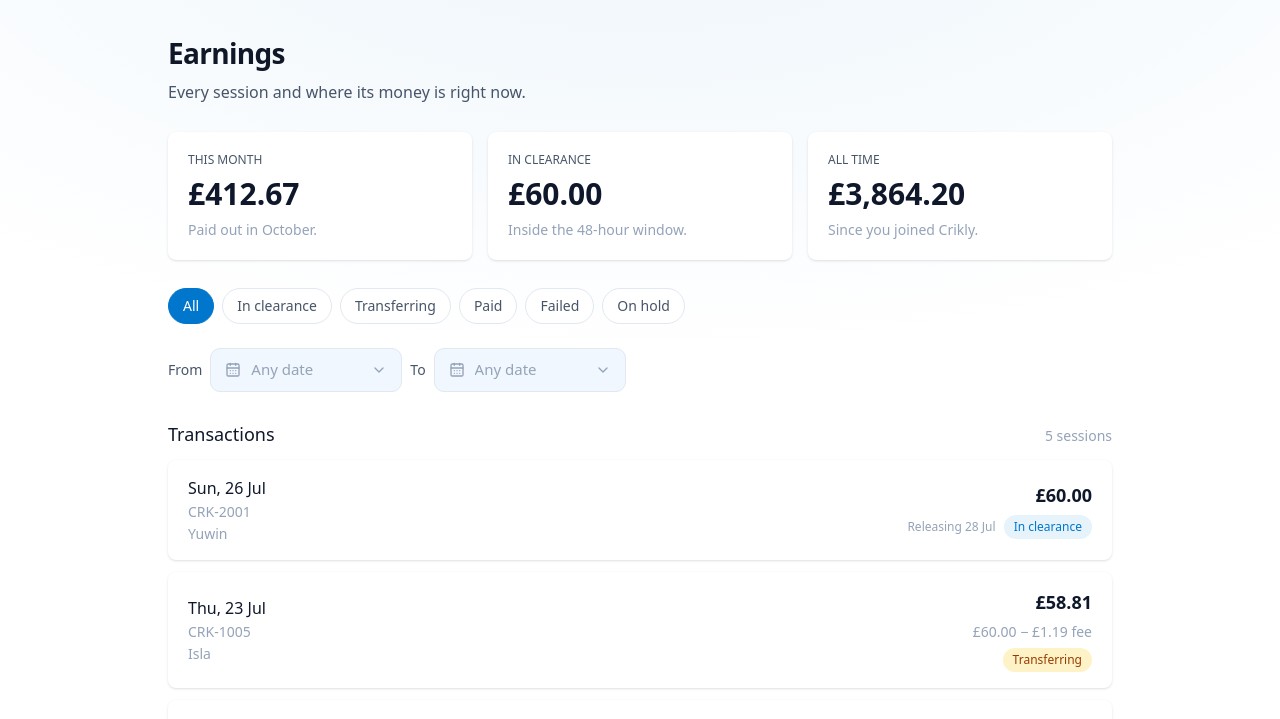
Test: Earnings — client-side filtering › filters by status pill (single-select) and updates the count
Click the button "Paid": (488, 306) [459,288,517,324]
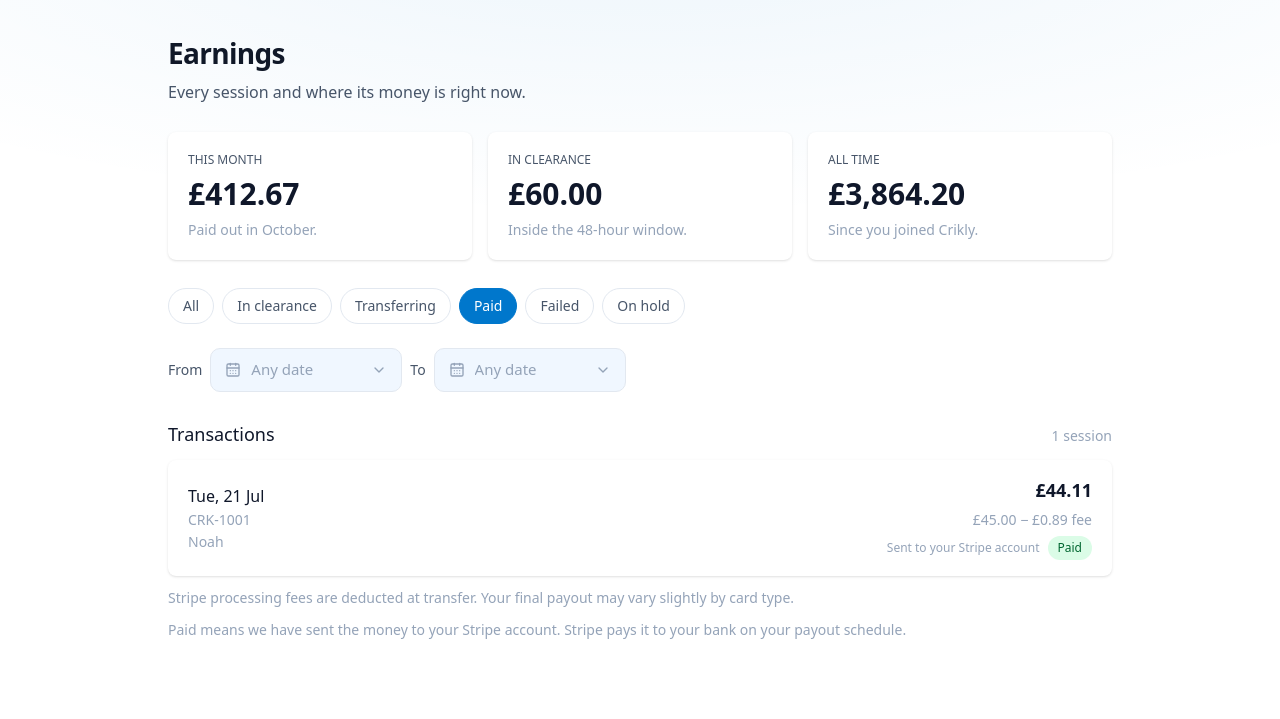
Expected: the text "CRK-1001" is shown, [188,510,251,529]
Expected: the number of elements with test id "transaction-row" is 1, [168,460,1112,576]
Expected: the text with test id "transaction-count" reads "1 session", [1052,426,1112,446]
Note: Single-select: switching pills replaces the filter
Click the button "In clearance": (277, 306) [222,288,332,324]
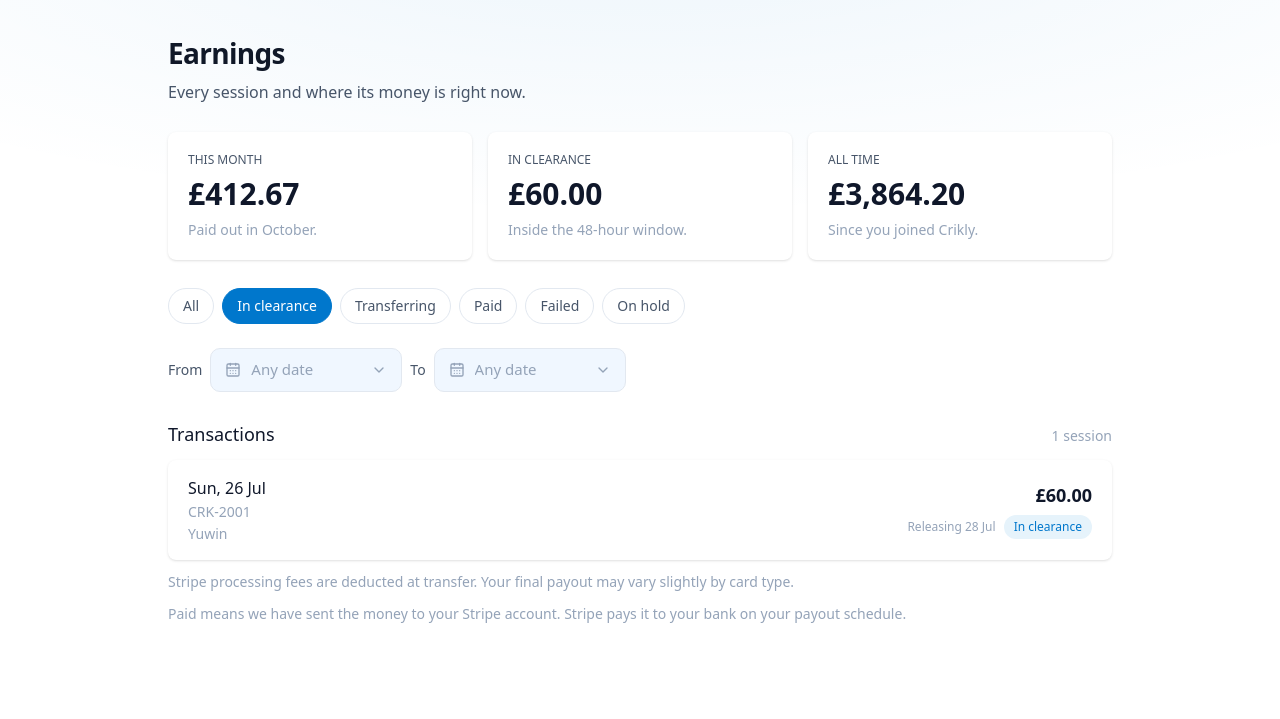
Expected: the number of elements with test id "transaction-row" is 1, [168,460,1112,560]
Expected: the text "CRK-2001" is shown, [188,502,251,521]
Click the button "All": (191, 306) [168,288,214,324]
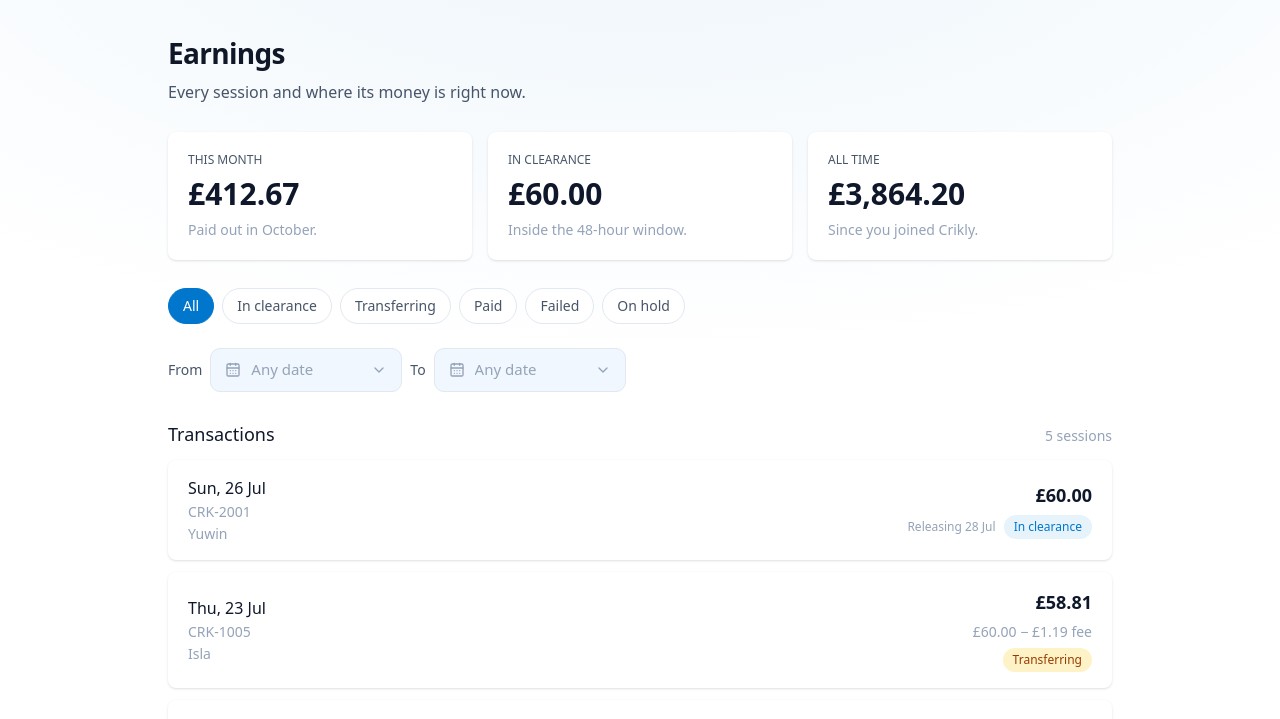
Expected: the number of elements with test id "transaction-row" is 5
